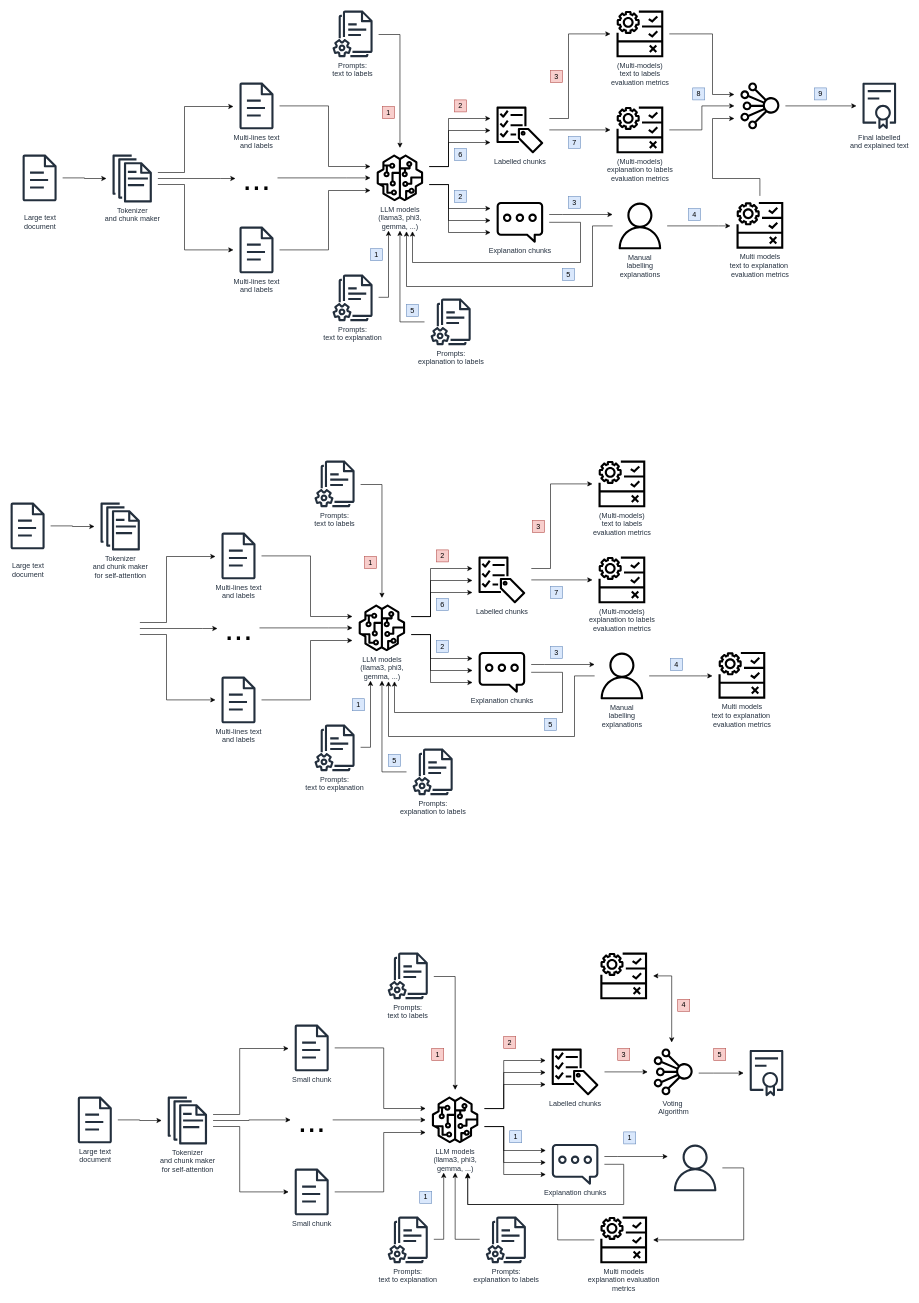
Some shapes in this 919 by 1303 pixel diagram are drawn without their labels. Each missing label, with the box of its shape:
Final labelled or explained text: (749, 1049, 783, 1096)
Manual labelling: (671, 1144, 718, 1191)
Multi models evaluation metrics: (600, 952, 647, 999)
Voting chunks to text Algorithm: (740, 82, 779, 129)
